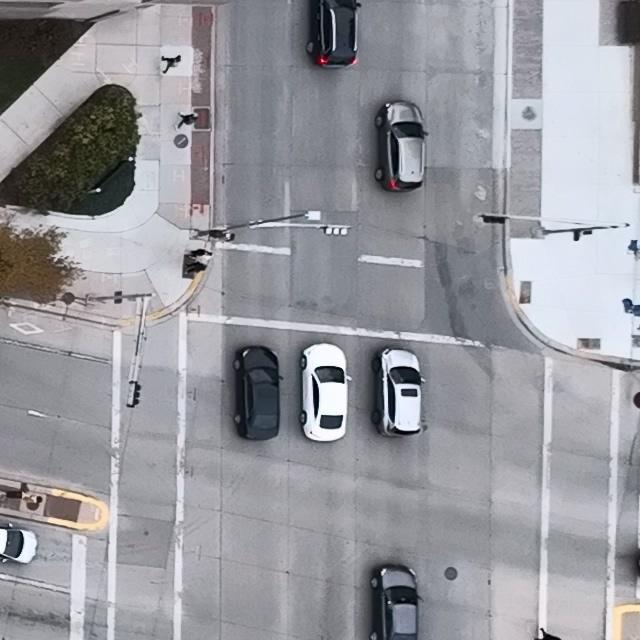car: (300, 342, 352, 442), (375, 101, 430, 194), (371, 347, 426, 438), (233, 346, 283, 441), (369, 564, 423, 640), (307, 0, 361, 68), (0, 521, 37, 564)
